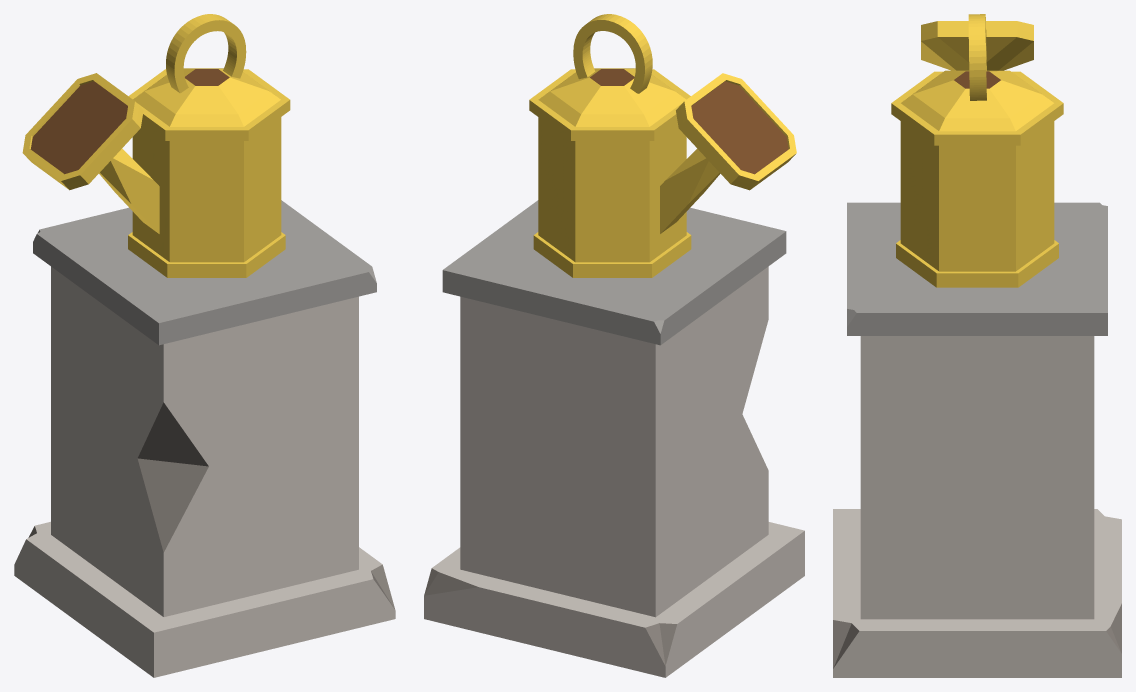
Rendered from WATERINGCAN_W_STAND.fbx.
3 views of the same model, side by side, from view 1: azimuth 30°, elevation 25°; view 2: azimuth 150°, elevation 25°; view 3: azimuth 270°, elevation 25° (orthographic). The views are drawn at different scales.
Parts seen in each view (by area): view 1: Cube.064, Cylinder.023; view 2: Cube.064, Cylinder.023; view 3: Cube.064, Cylinder.023.
Boxes of the visible parts, x1,y1,x2,y2 form: Cube.064: (14, 200, 395, 677); Cylinder.023: (22, 14, 290, 277); Cube.064: (424, 200, 804, 677); Cylinder.023: (529, 14, 796, 277); Cube.064: (833, 202, 1121, 677); Cylinder.023: (891, 14, 1063, 287).
Bounding box in the file's own units: 269 × 524 × 229.
